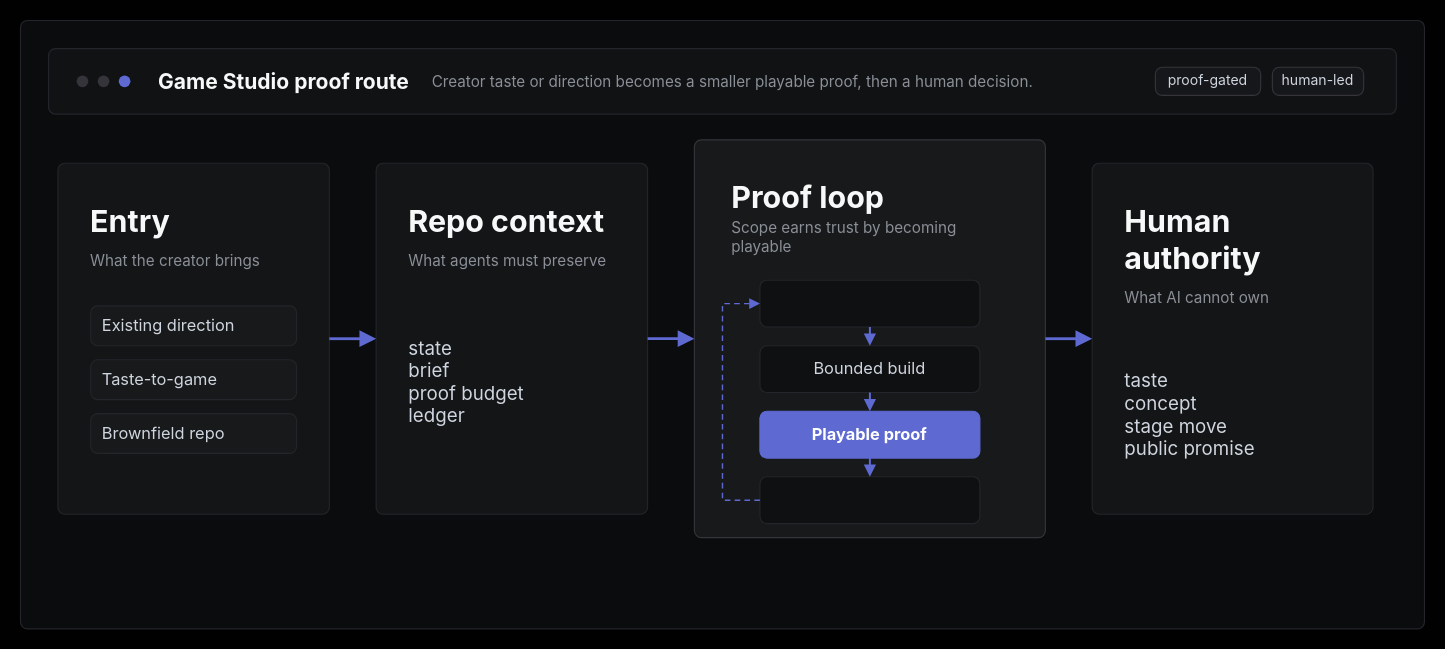
Some shapes in this 1445 by 649 pixel diagram are drawn without their labels. Each missing label, with the centre of its shape:
"Proof target" goes at [869,303].
"Review + gate" goes at [869,500].
